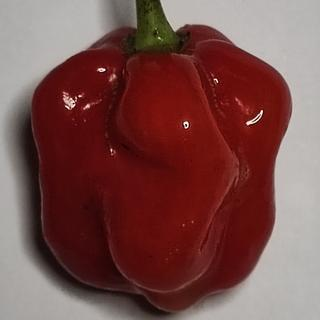Grade-A: (19, 19, 297, 313)
